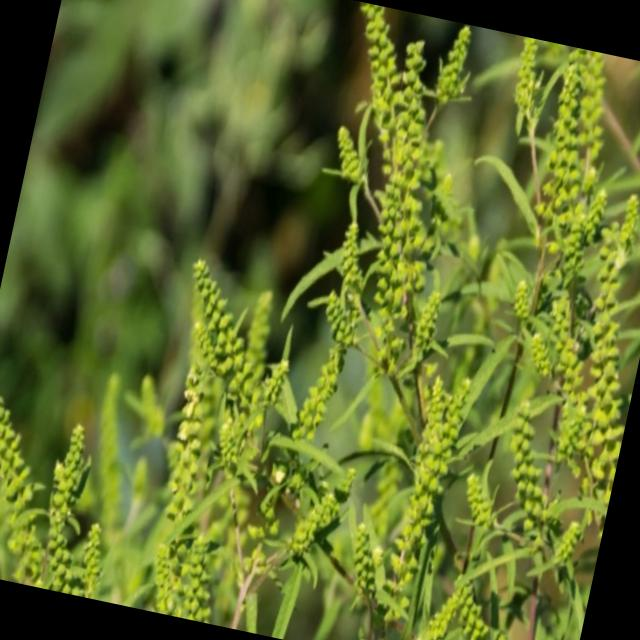ambrosia: (418, 36, 640, 566), (272, 5, 510, 405), (100, 234, 326, 632), (337, 343, 554, 640), (0, 355, 120, 576)
